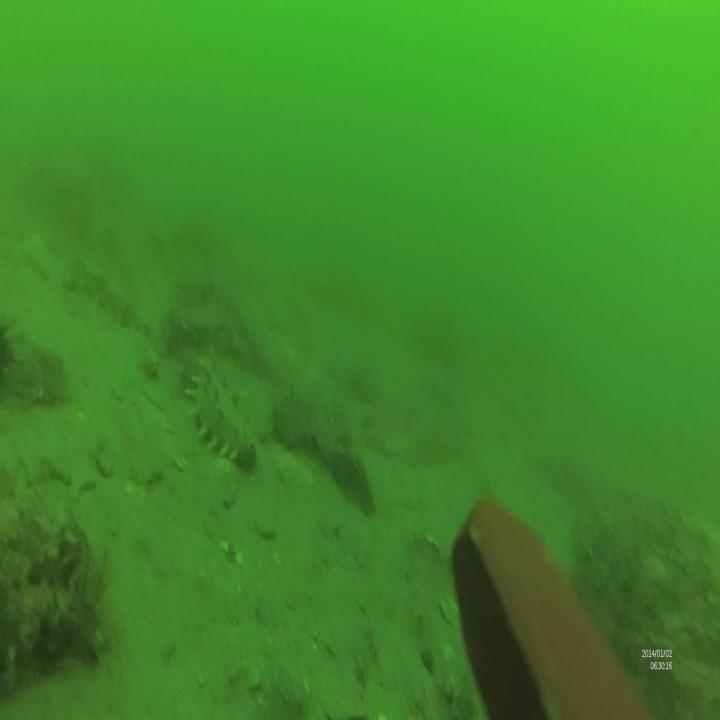echinus: (0, 316, 24, 412)
holothurian: (185, 349, 258, 471), (78, 257, 151, 335)
